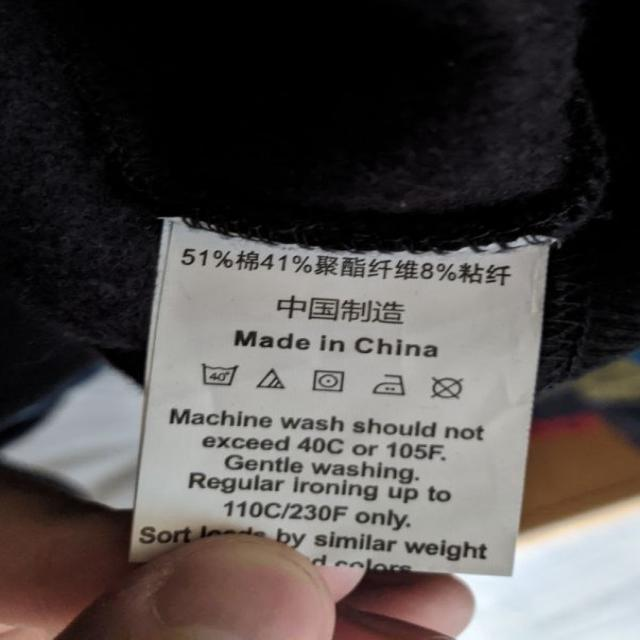40C: (196, 360, 244, 389)
DN_dry_clean: (427, 373, 469, 402)
iron_medium: (370, 371, 409, 397)
non_chlorine_bleach: (257, 367, 288, 393)
tumble_dry_low: (311, 365, 352, 393)
